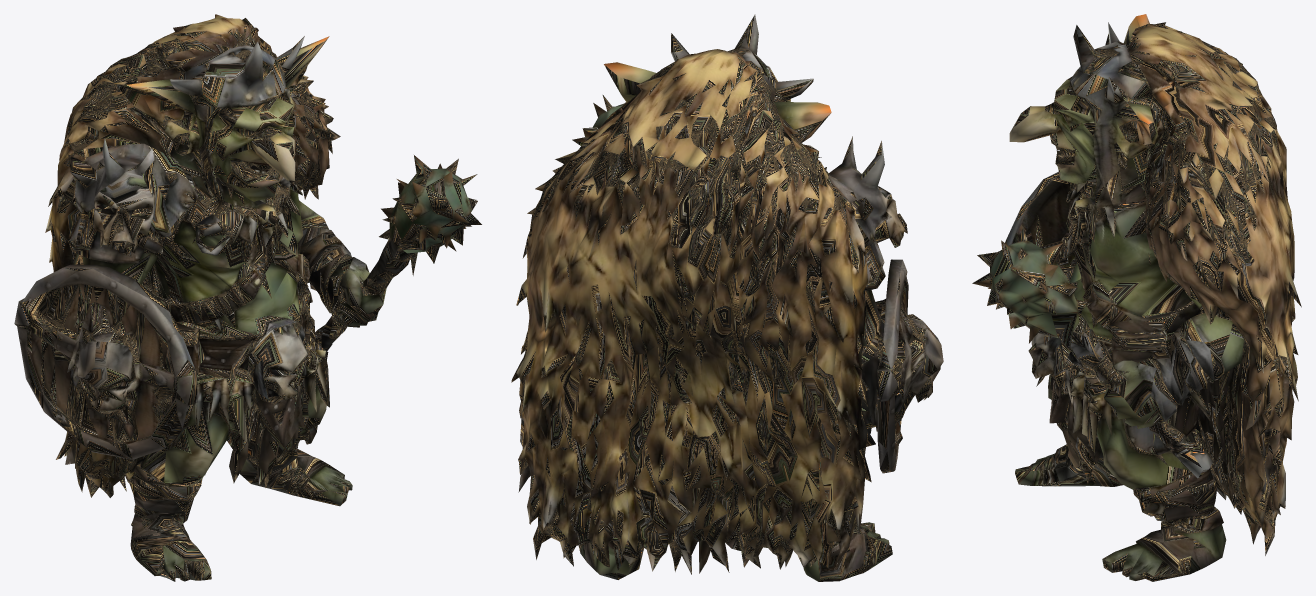
Rendered from mf_chief.glb.
The picture shows the model from 3 angles, left to right: view 1: azimuth 30°, elevation 25°; view 2: azimuth 150°, elevation 25°; view 3: azimuth 270°, elevation 25°; orthographic projection. The views are drawn at different scales.
Parts seen in each view (by area): view 1: Model; view 2: Model; view 3: Model.
Boxes of the visible parts, x1,y1,x2,y2 form: Model: (14,14,481,581); Model: (511,14,943,581); Model: (972,14,1301,581).
Size of the model in its own units: 1.58 by 2 by 1.2.
Materials: 1 (1 with a texture image).
